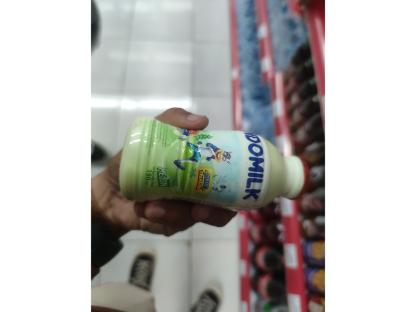Others: (118, 118, 310, 212)
